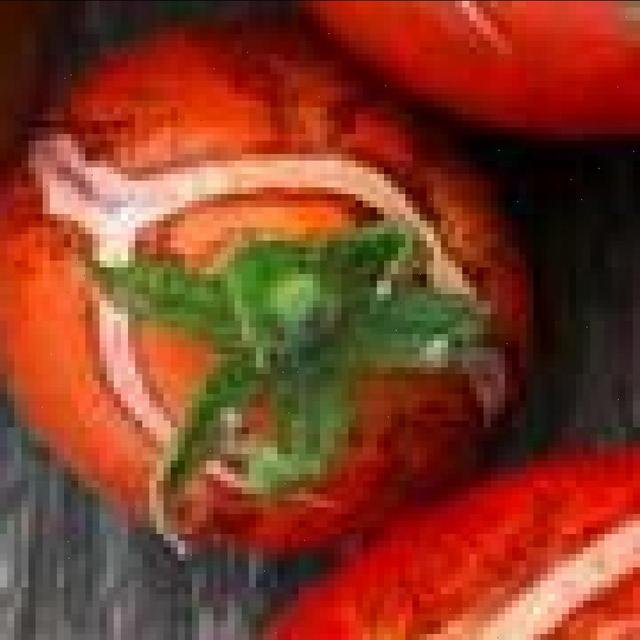Cracking Fruit: (66, 20, 379, 384)
